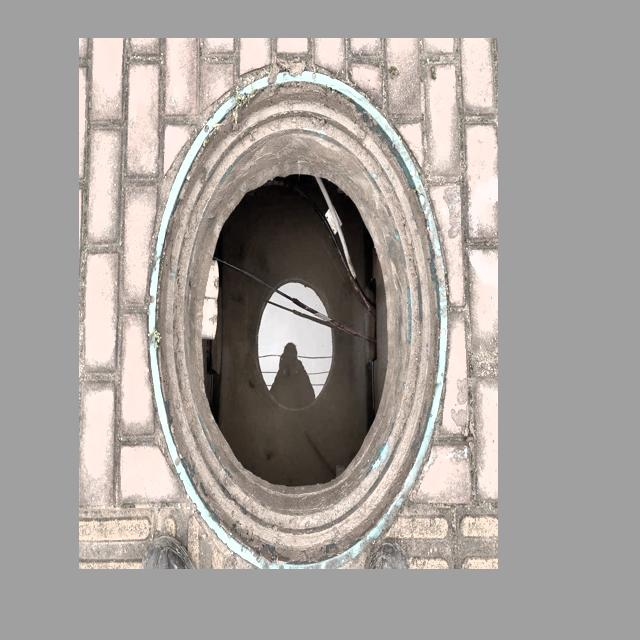lose: (148, 69, 448, 569)
